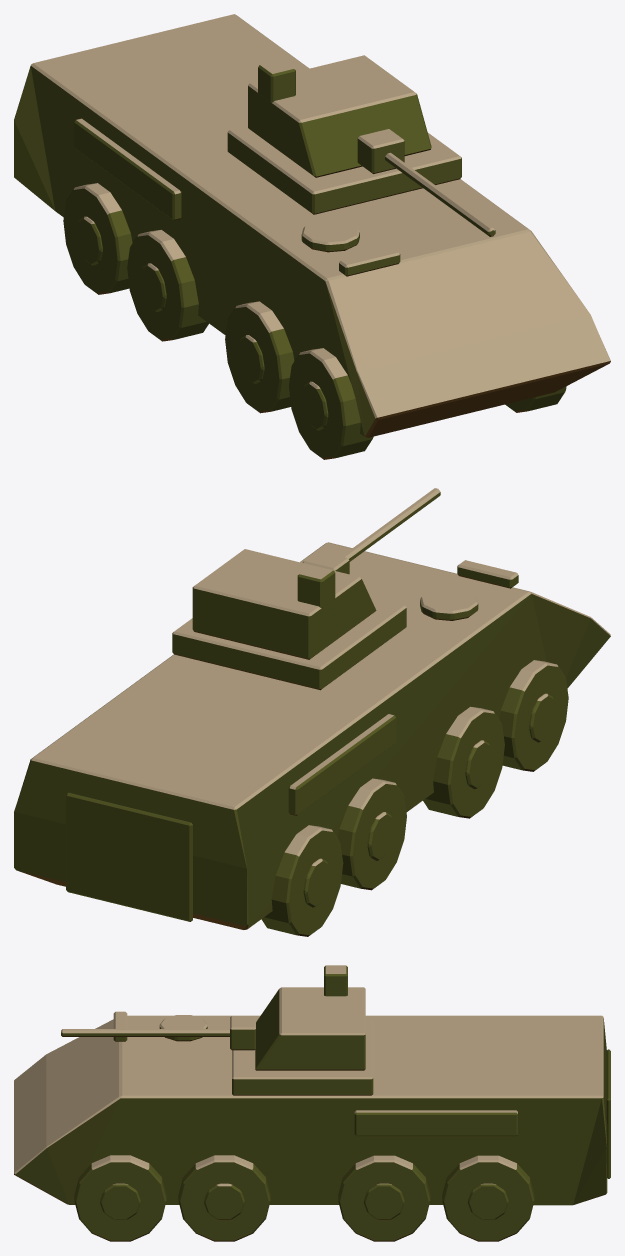
File: SM_VCR_Dragon_v4a.fbx
3 renders of one model, top to bottom at view 1: azimuth 30°, elevation 25°; view 2: azimuth 150°, elevation 25°; view 3: azimuth 270°, elevation 25°, orthographic. The views are drawn at different scales.
Visible parts, largest first — view 1: SM_VCR_Dragon_bloque; view 2: SM_VCR_Dragon_bloque; view 3: SM_VCR_Dragon_bloque.
Boxes of the visible parts, x1,y1,x2,y2 form: SM_VCR_Dragon_bloque: [14, 14, 610, 459]; SM_VCR_Dragon_bloque: [14, 488, 610, 936]; SM_VCR_Dragon_bloque: [14, 965, 610, 1241].
Bounding box in the file's own units: 2.99 × 3.26 × 8.03.
